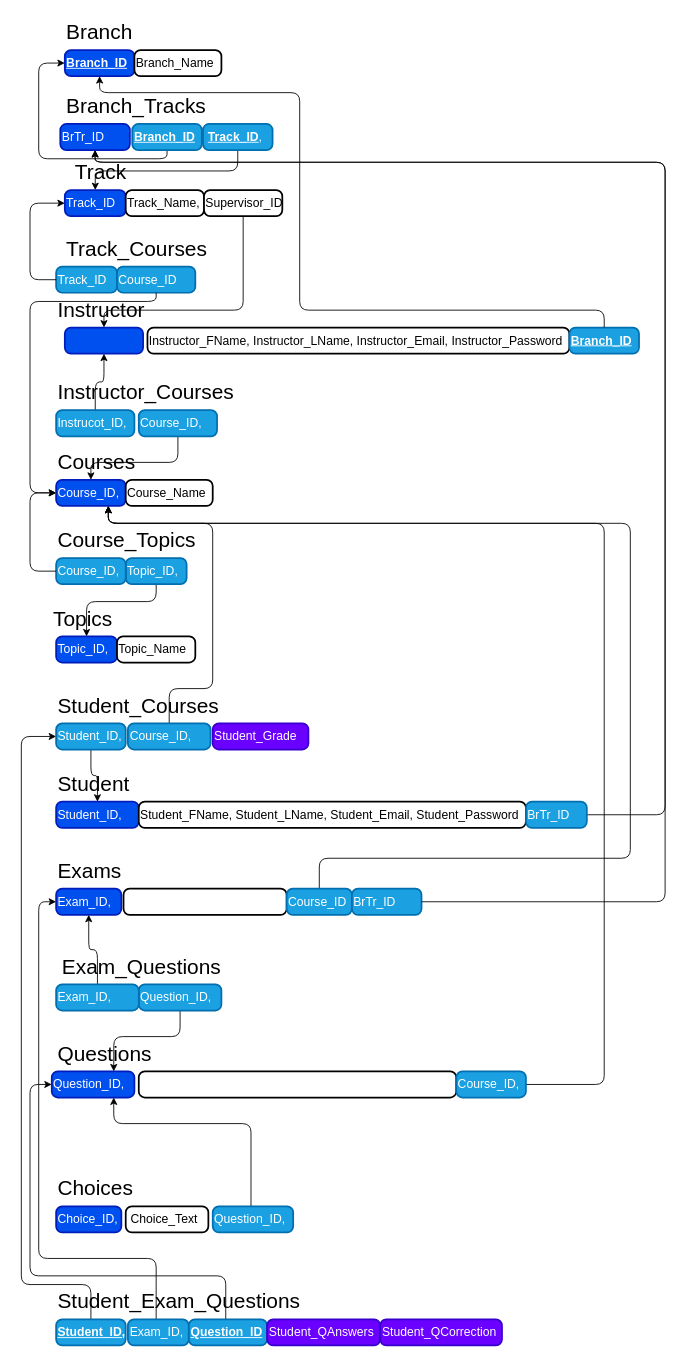
Image size: 687x1361. Some labels were removed from this diagram. The centre of each missing label's shape, as x and y in pixels:
Exam_Duration, Exam_Date: the point at 204,901
Instructor_ID: the point at 104,340
Question_Text, Question_Type, Question_ModelAnswer: the point at 297,1084
